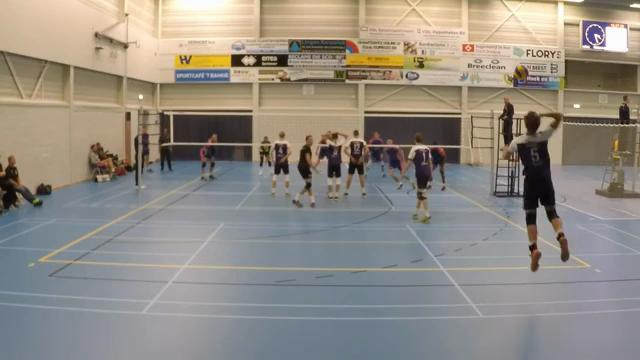battuta: (495, 109, 569, 274)
